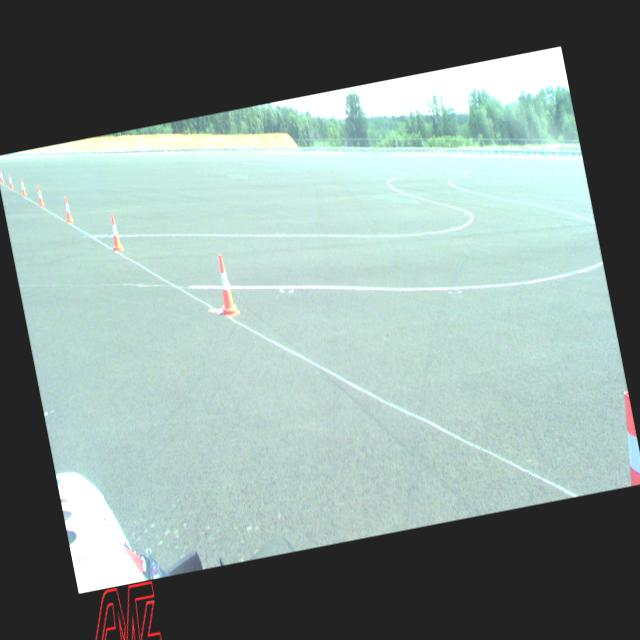large_orange_cone: (614, 391, 640, 485)
orange_cone: (210, 252, 240, 318), (107, 212, 124, 252), (62, 196, 74, 223), (35, 184, 45, 208), (19, 178, 27, 196), (8, 174, 14, 189), (0, 170, 5, 185)
